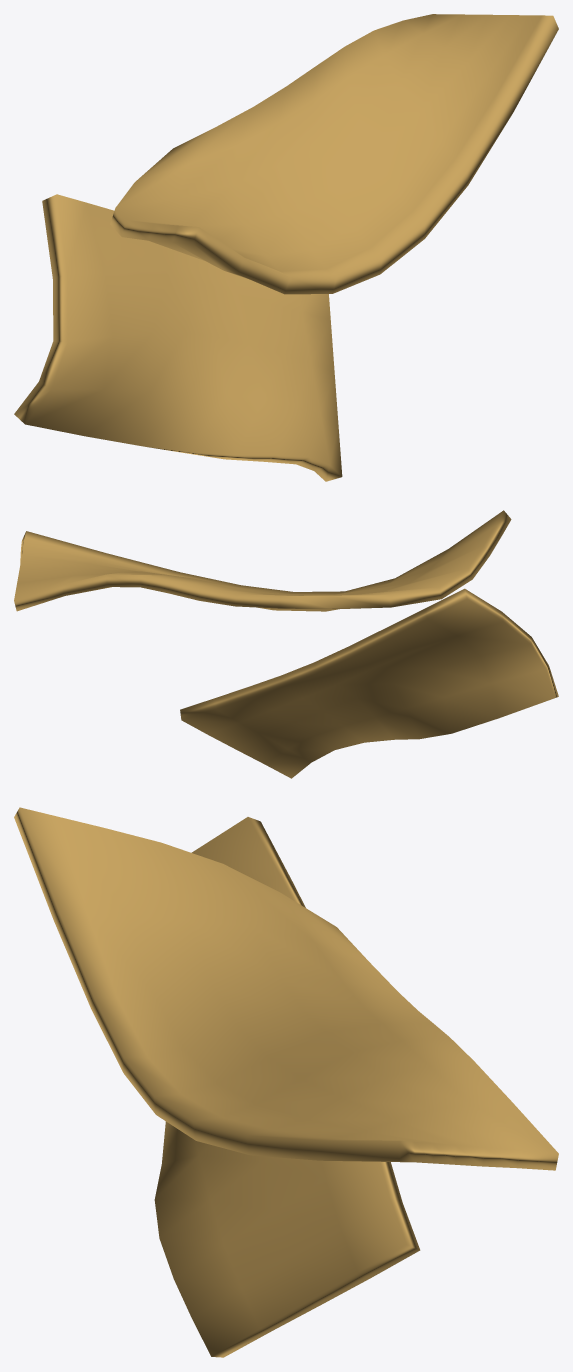
3 views of the same model, one above another, from view 1: azimuth 30°, elevation 25°; view 2: azimuth 150°, elevation 25°; view 3: azimuth 270°, elevation 25° (orthographic). The views are drawn at different scales.
Parts seen in each view (by area): view 1: 左侧距跟骨间韧带; view 2: 左侧距跟骨间韧带; view 3: 左侧距跟骨间韧带.
Part boxes in pixels (box(x1,y1,x2,y2)): 左侧距跟骨间韧带: box(14, 14, 558, 481); 左侧距跟骨间韧带: box(14, 510, 558, 778); 左侧距跟骨间韧带: box(14, 807, 558, 1357).
Bounding box in the file's own units: 0.0309 × 0.0168 × 0.0193.
